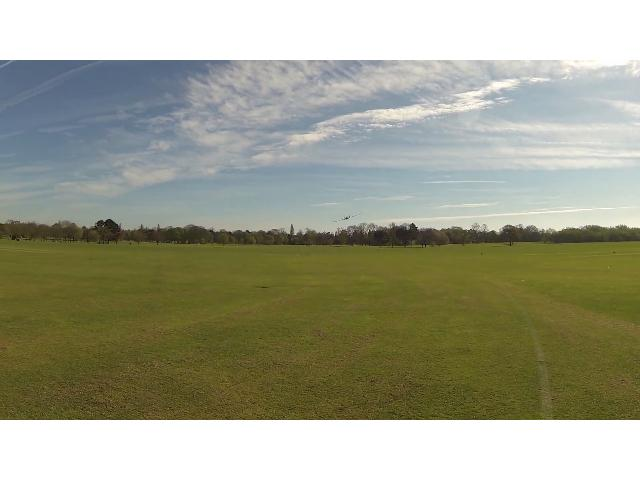Anti-Drone: (334, 214, 360, 222)
